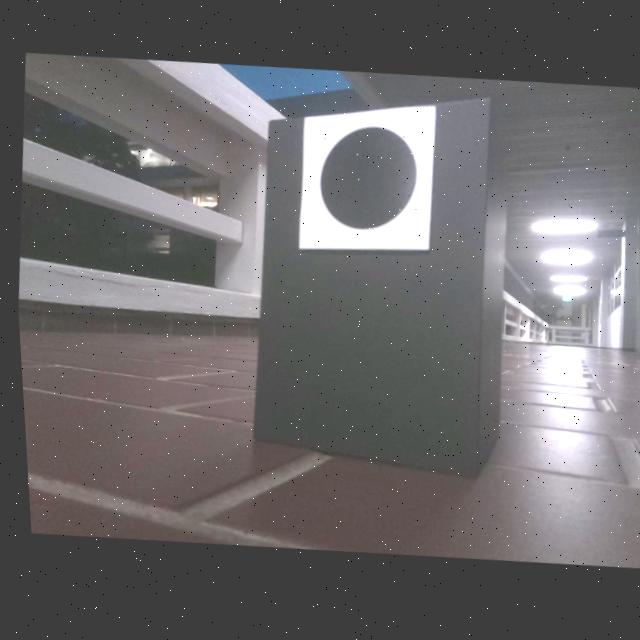CIRCLE: (316, 127, 416, 233)
